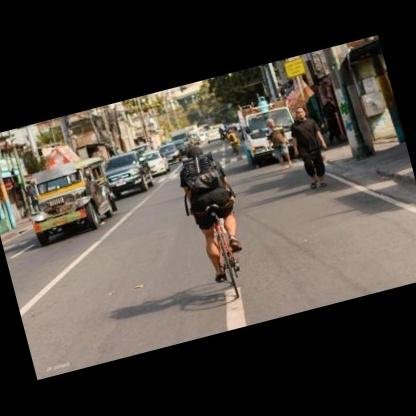Bicycle: (176, 176, 266, 304)
